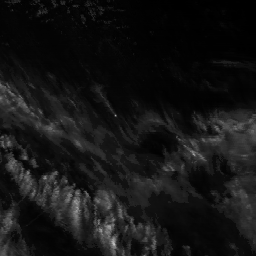Target: (113, 113, 118, 118)
